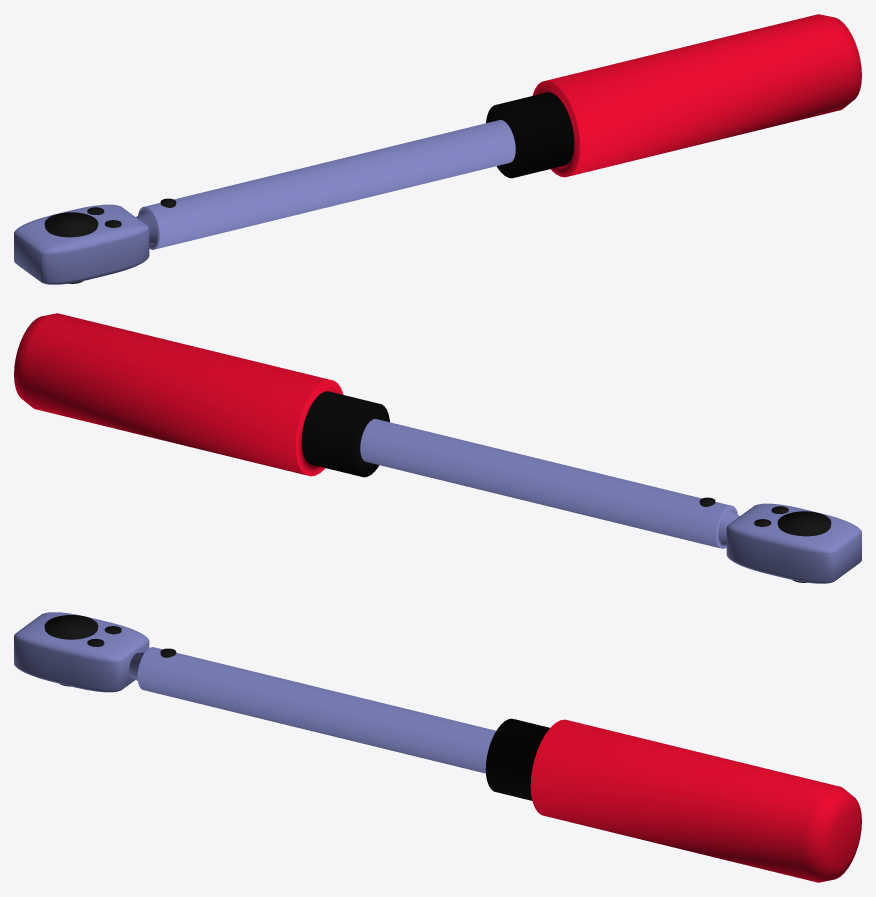
Rendered from TorqueWrench.fbx.
3 renders of one model, top to bottom at view 1: azimuth 30°, elevation 25°; view 2: azimuth 150°, elevation 25°; view 3: azimuth 330°, elevation 25°, orthographic.
Parts seen in each view (by area): view 1: TorqueWrench; view 2: TorqueWrench; view 3: TorqueWrench.
Boxes of the visible parts, x1,y1,x2,y2 form: TorqueWrench: [14, 14, 861, 284]; TorqueWrench: [14, 313, 861, 583]; TorqueWrench: [14, 612, 861, 882].
Bounding box in the file's own units: 560 × 58.68 × 58.68.
